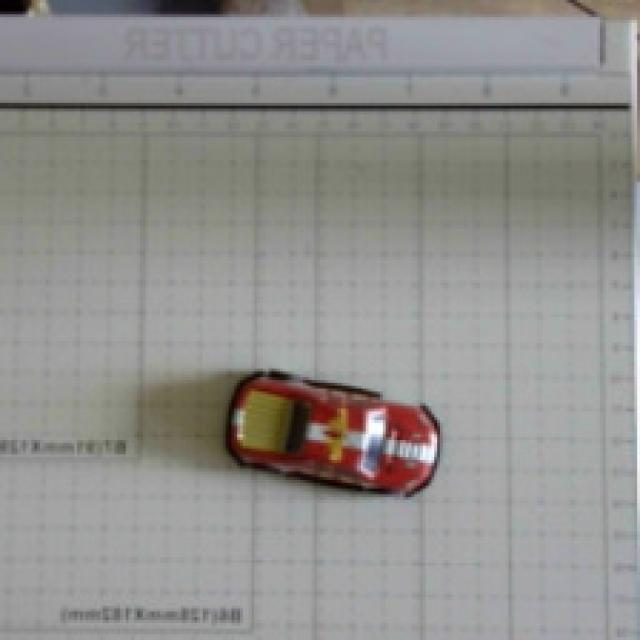Red Car: (168, 349, 494, 555)
